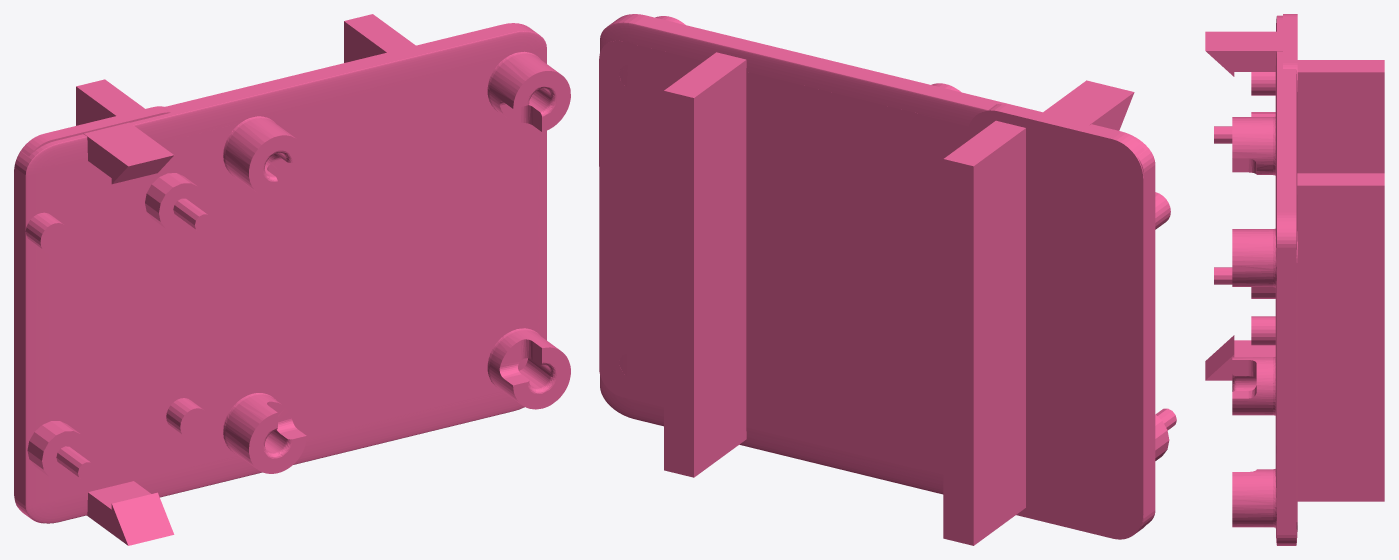
Rendered from tinker.obj.
3 renders of one model, left to right at view 1: azimuth 30°, elevation 25°; view 2: azimuth 150°, elevation 25°; view 3: azimuth 270°, elevation 25°, orthographic. The views are drawn at different scales.
Parts seen in each view (by area): view 1: obj_0; view 2: obj_0; view 3: obj_0.
Part boxes in pixels (<box>): obj_0: <box>14,14,570,545</box>; obj_0: <box>599,14,1176,545</box>; obj_0: <box>1205,14,1384,545</box>.
Size of the model in its own units: 72 by 50.5 by 24.7.
